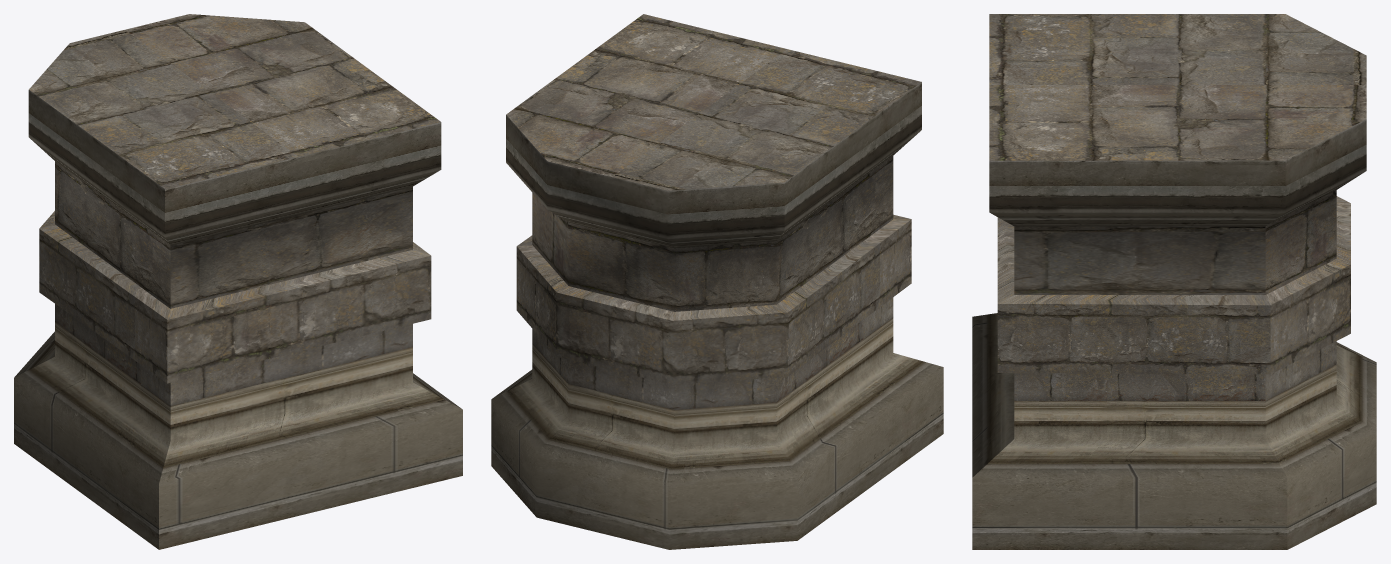
The model's file is pillar_type009.FBX.
3 views of the same model, side by side, from view 1: azimuth 30°, elevation 25°; view 2: azimuth 150°, elevation 25°; view 3: azimuth 270°, elevation 25° (orthographic). The views are drawn at different scales.
Visible parts, largest first — view 1: pillar_type009; view 2: pillar_type009; view 3: pillar_type009.
Boxes of the visible parts, x1,y1,x2,y2 form: pillar_type009: [14, 14, 462, 549]; pillar_type009: [491, 14, 943, 549]; pillar_type009: [972, 14, 1376, 549].
Bounding box in the file's own units: 292 × 323 × 309.
Materials: 1 (1 with a texture image).
